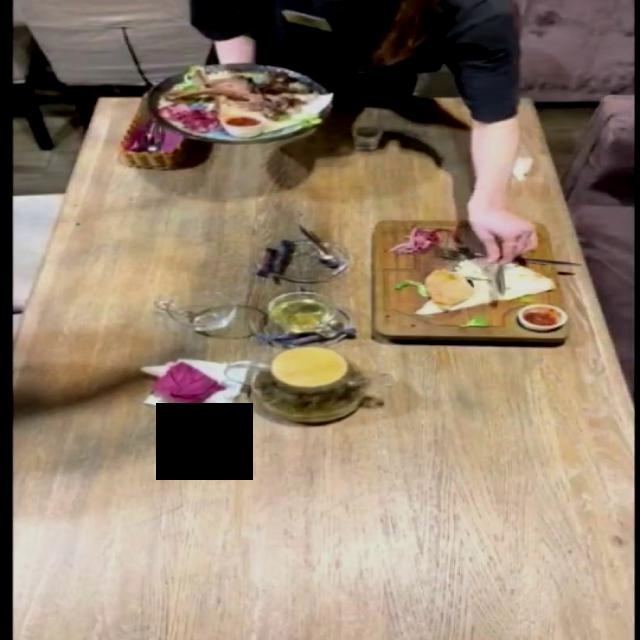meat: (371, 220, 575, 341), (156, 66, 329, 139)
tea: (236, 320, 375, 446)
